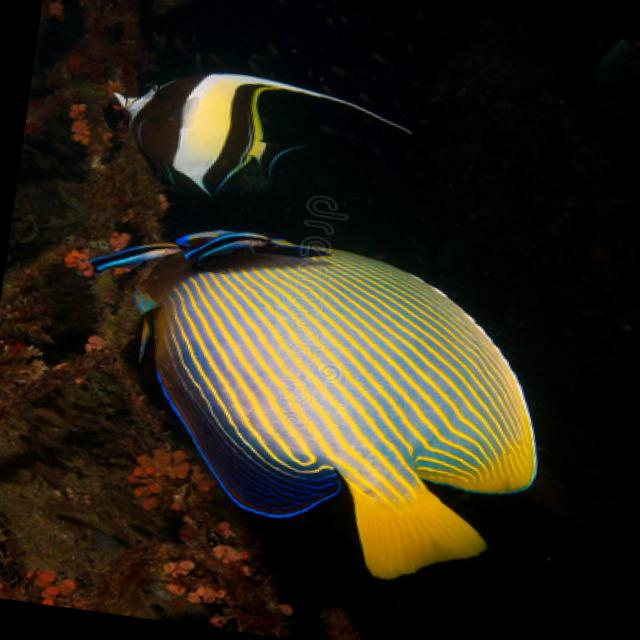AngelFish: (61, 213, 563, 599), (99, 39, 414, 230)
